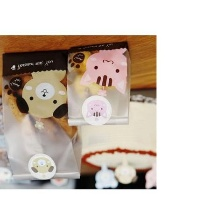snack: (0, 45, 86, 185), (60, 36, 137, 131)
